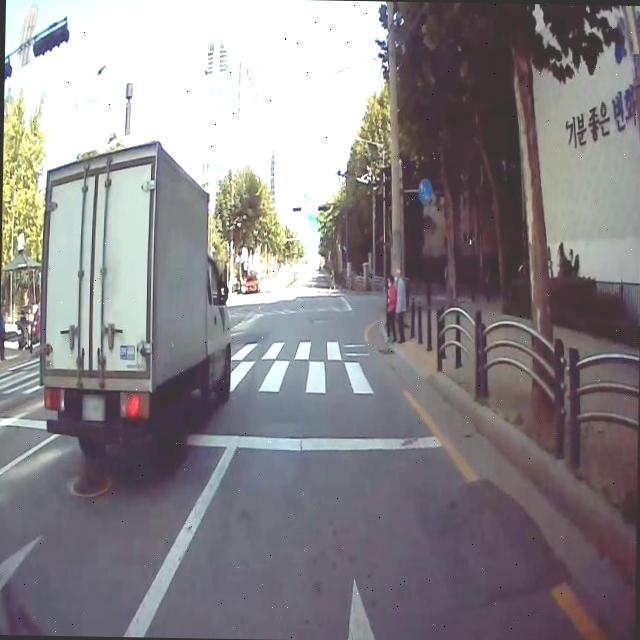crosswalk: (0, 340, 390, 399)
